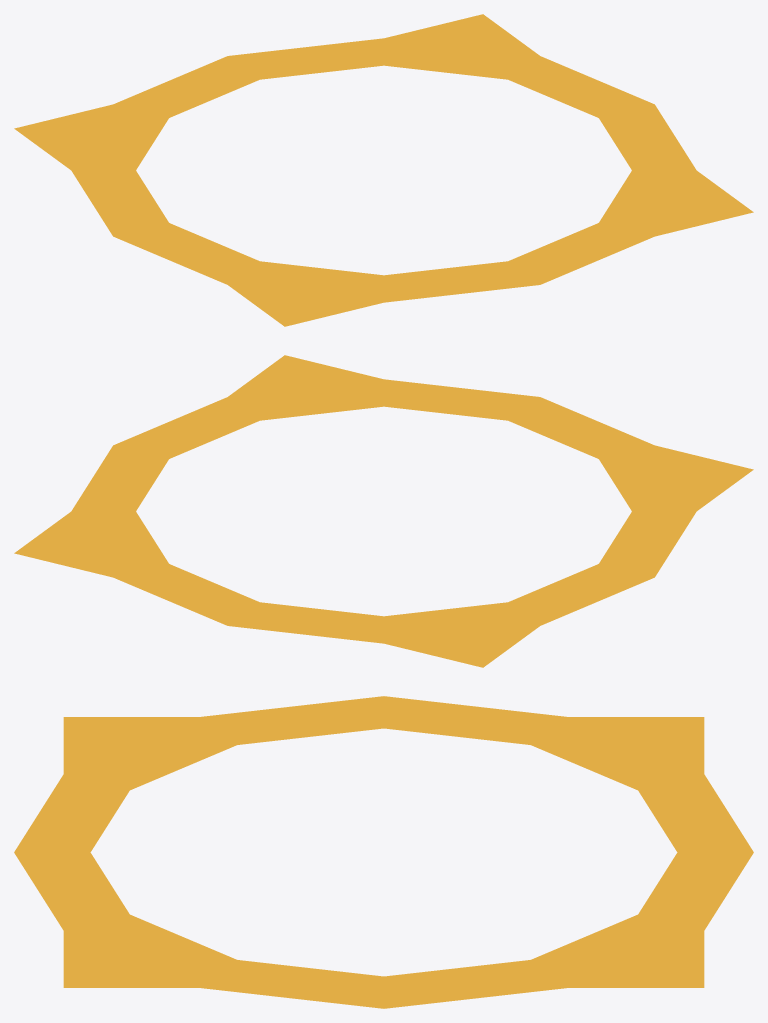
File: prototype-kit--indicator-round-c.glb
3 renders of one model, top to bottom at view 1: azimuth 30°, elevation 25°; view 2: azimuth 150°, elevation 25°; view 3: azimuth 270°, elevation 25°, orthographic. The views are drawn at different scales.
Parts seen in each view (by area): view 1: rotate-y; view 2: rotate-y; view 3: rotate-y.
Part boxes in pixels (left/top/right/bottom): rotate-y: left=14, top=14, right=753, bottom=326; rotate-y: left=14, top=355, right=753, bottom=667; rotate-y: left=14, top=696, right=753, bottom=1008.
Size of the model in its own units: 1 by 0 by 1.
1 material, 1 textured.
